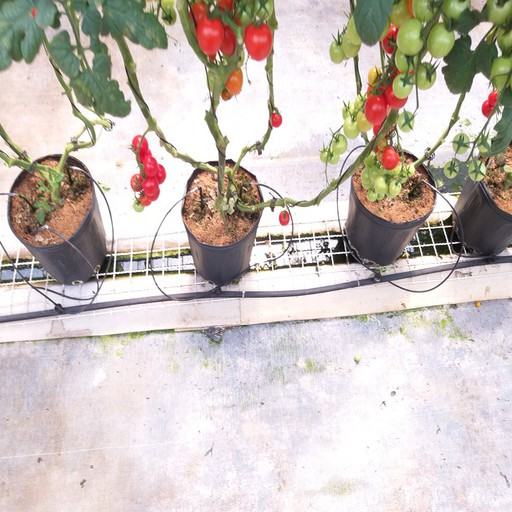green tomato bunch: (318, 66, 397, 163), (395, 1, 473, 98), (482, 1, 511, 102), (359, 153, 413, 205)
red tomato bunch: (187, 1, 272, 59), (368, 24, 416, 125), (130, 134, 167, 214)
